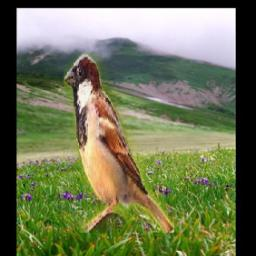Sparrow: (64, 53, 174, 233)
